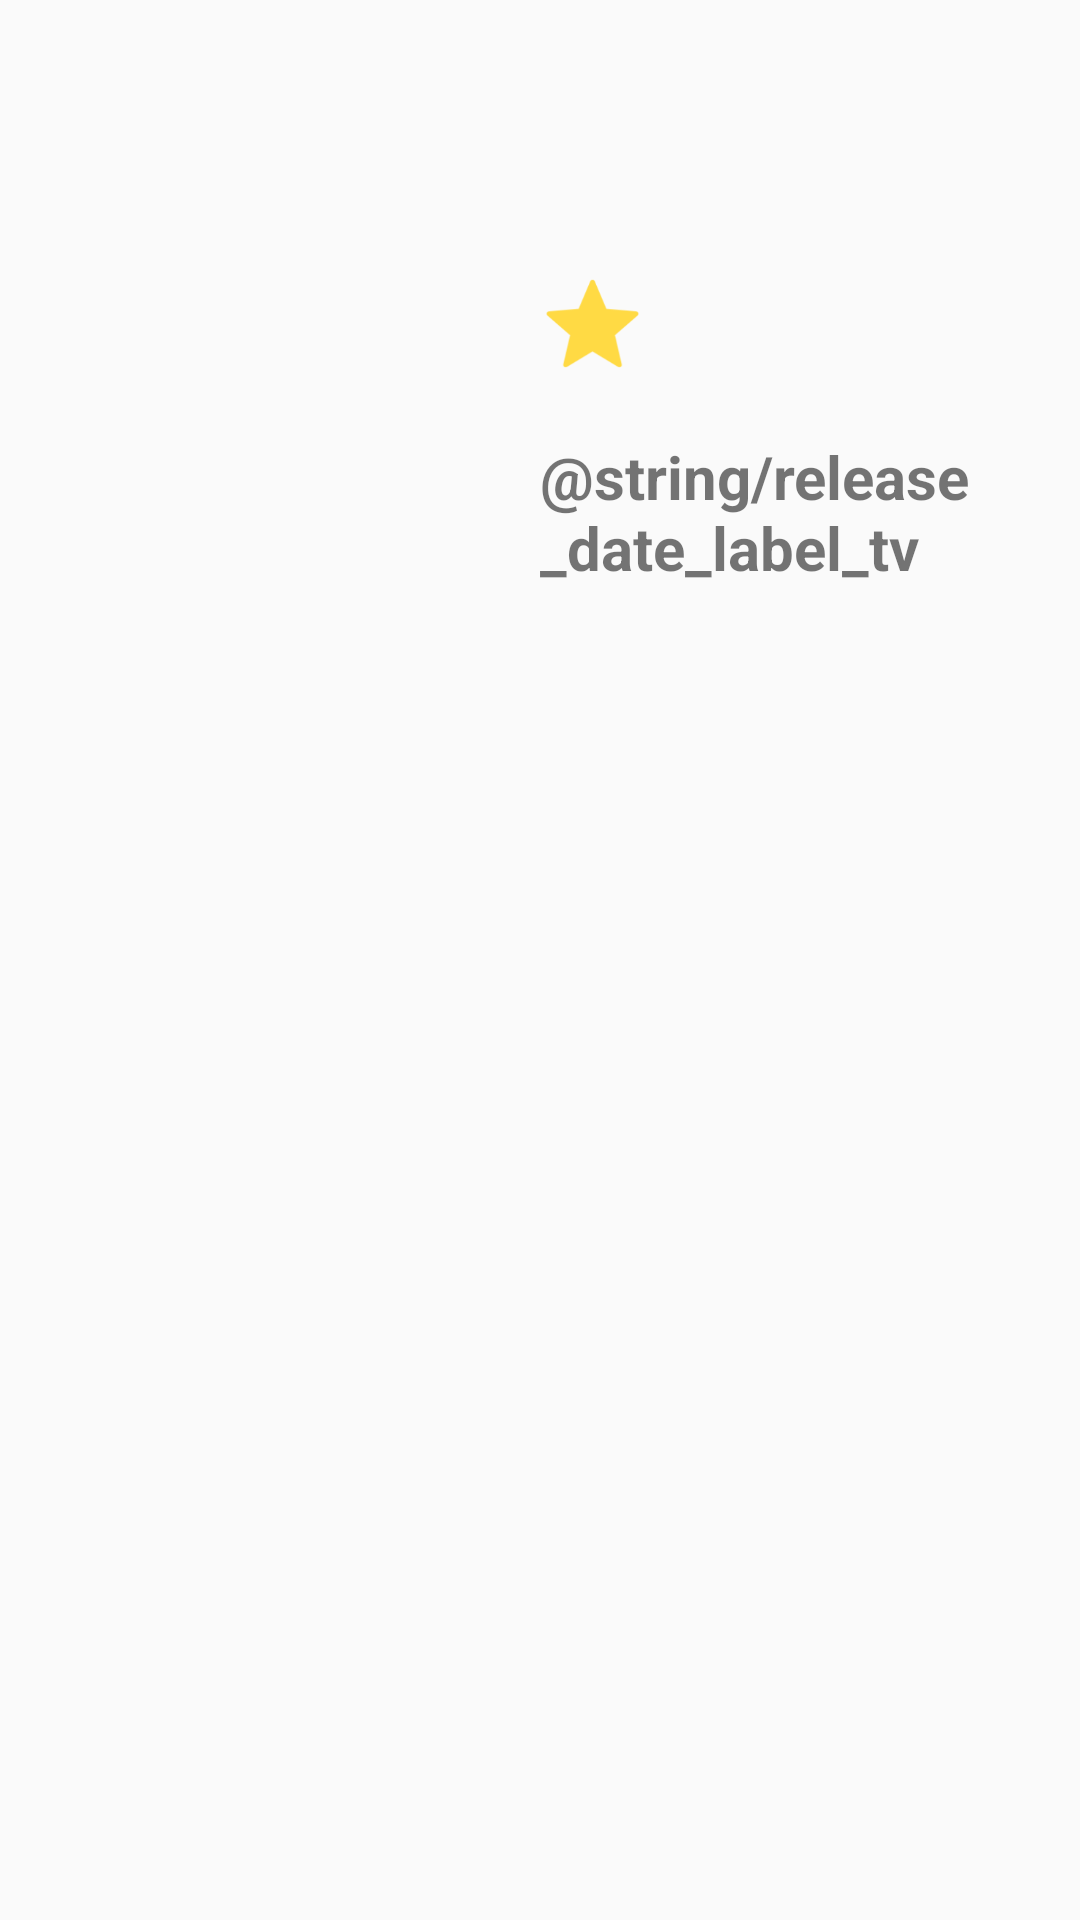

Locate icon controls on the screen. Image size 1080x1920, boxes as (x1, y1, x2, y2).
user rate: (546, 279, 639, 368)
